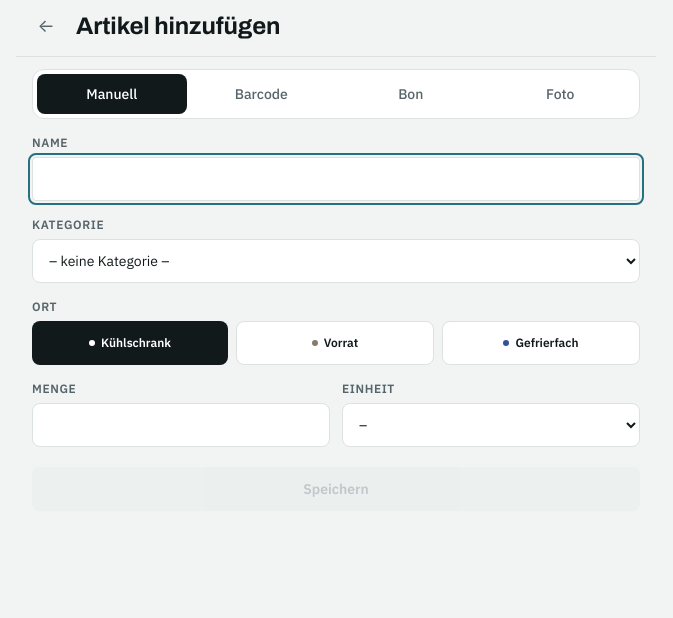
it: AddItem — manual entry › shows a grams-per-unit field only for container units
Expected: the field labelled "entspricht ca" is not shown
Select "Dose" in the dropdown labelled "Einheit" at [491, 425], box 342,403 -> 640,447
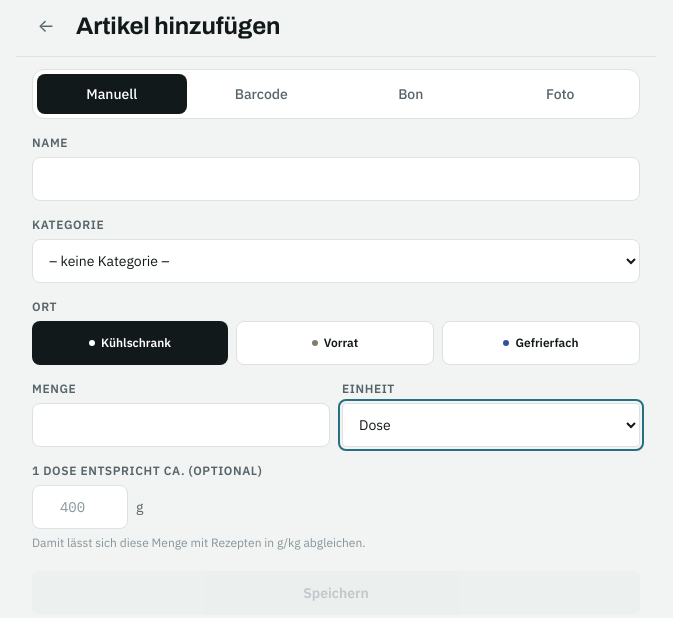
Expected: the number field with placeholder "400" is shown, 32,485 -> 128,529
Select "g" in the dropdown labelled "Einheit" at [491, 425], box 342,403 -> 640,447
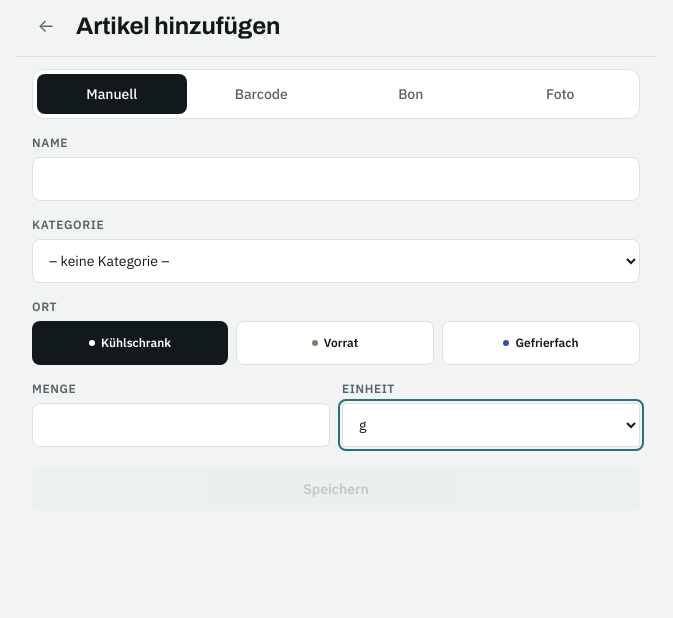
Expected: the number field with placeholder "400" is gone
